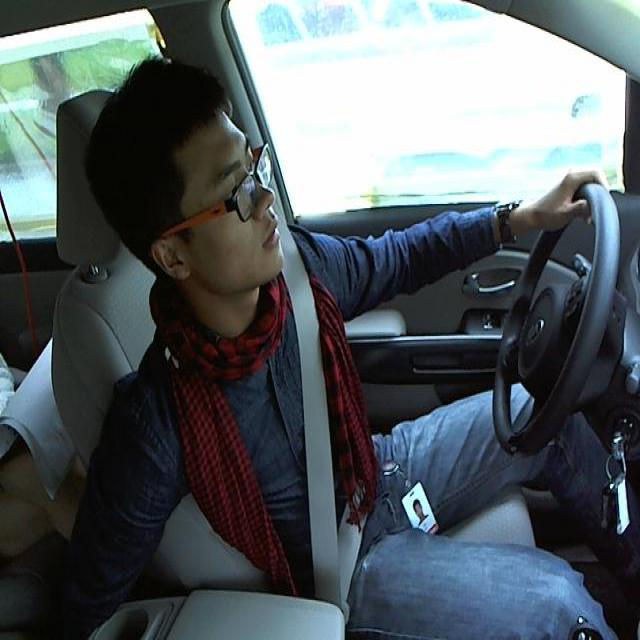seatbelt: (280, 252, 374, 604)
